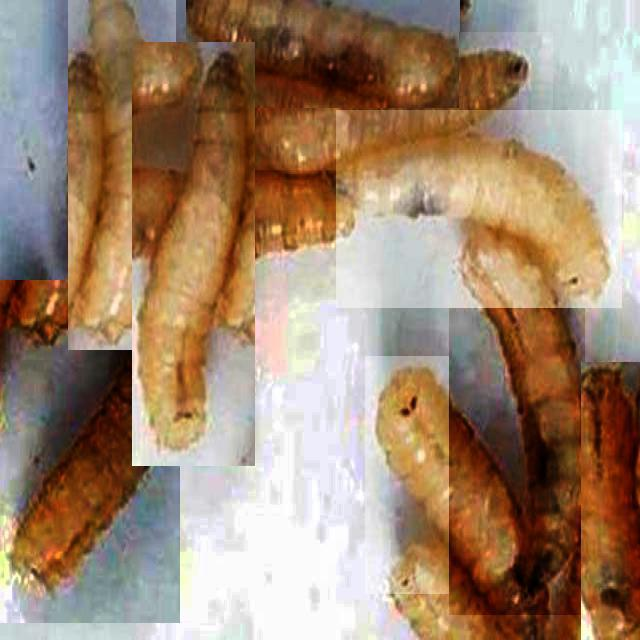whorl-maggot: (0, 280, 180, 623), (336, 110, 622, 308), (449, 228, 585, 615), (132, 42, 255, 466), (242, 32, 554, 170), (365, 357, 527, 595), (68, 0, 176, 350), (186, 0, 460, 108), (581, 362, 640, 640)
